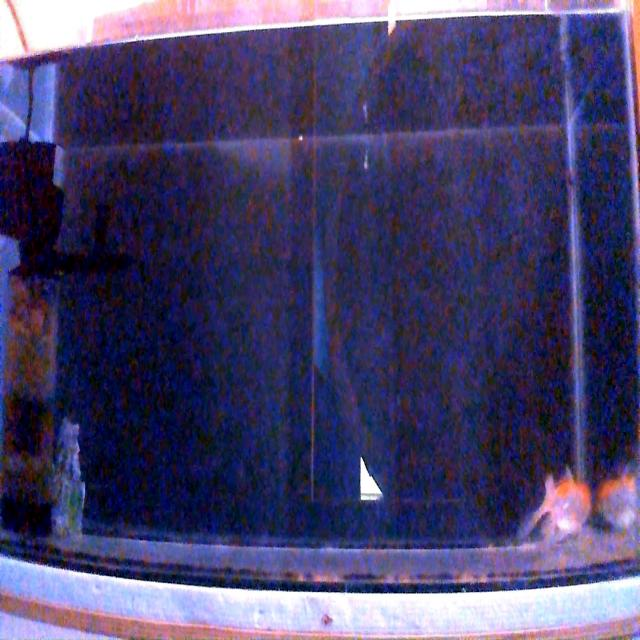fish: (517, 467, 590, 542), (595, 469, 639, 532)
